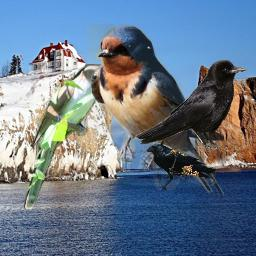Crow: (135, 59, 247, 150), (143, 142, 216, 190)
Cuckoo: (24, 64, 119, 209)
Swallow: (87, 24, 224, 198)
